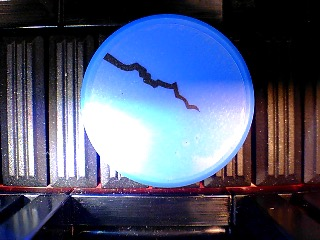CRACK: (80, 12, 255, 189)
